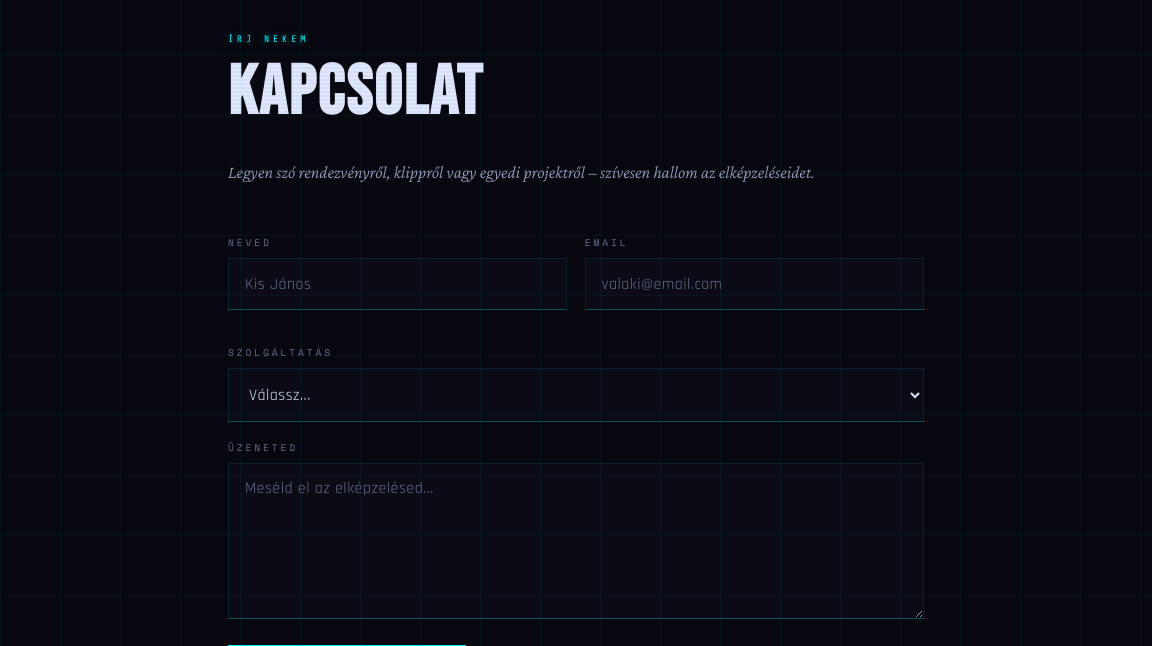
Test case: Contact – validáció › csak név – érvényes email hibaüzenet
In the field labelled "Neved": point(398, 284) [228,258,567,310], type "Teszt Elek"
(page scrolled)
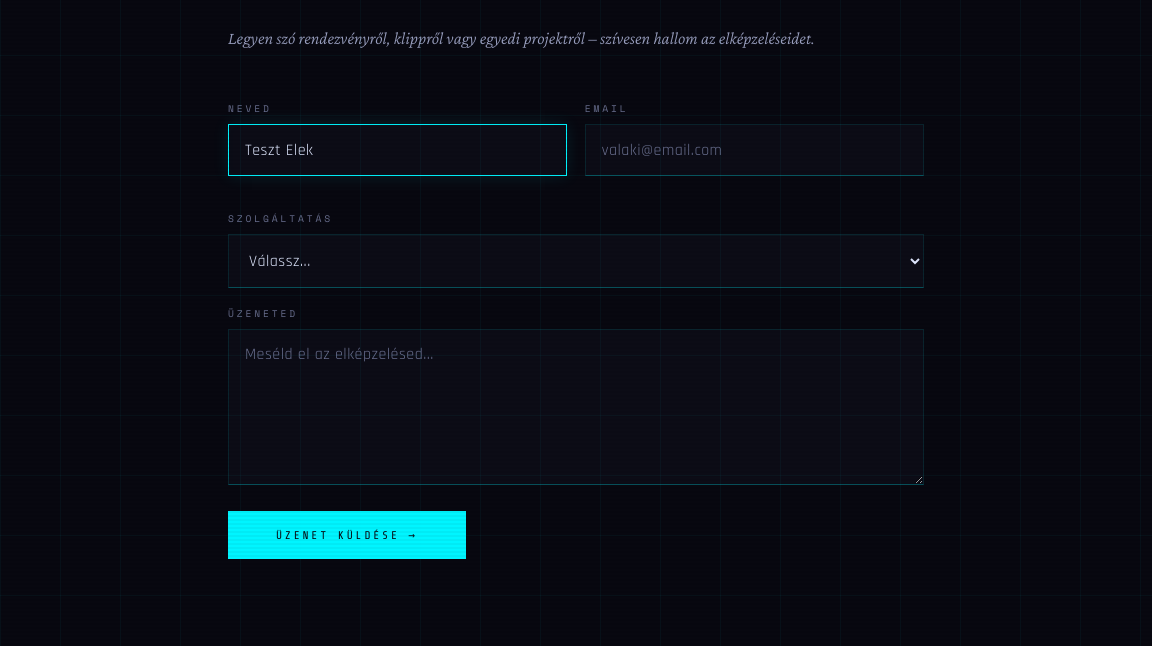
Click the button "Üzenet küldése →": point(347, 535) [228,511,466,559]
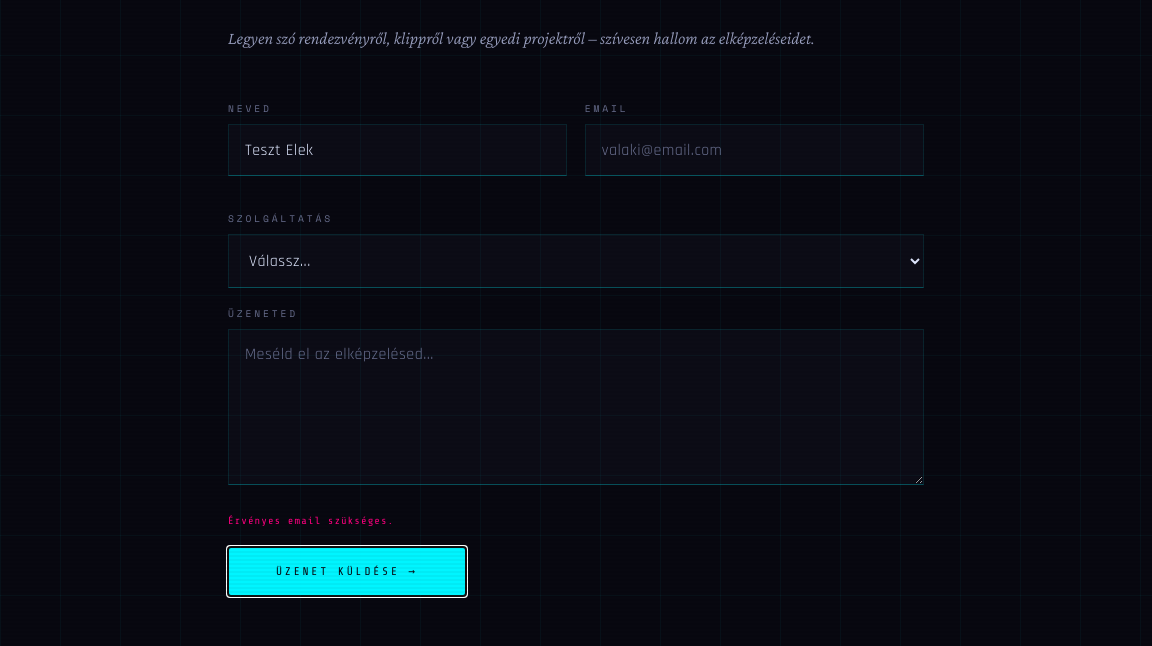
expect the text "Érvényes email szükséges." is shown: met, box [228,515,394,527]
